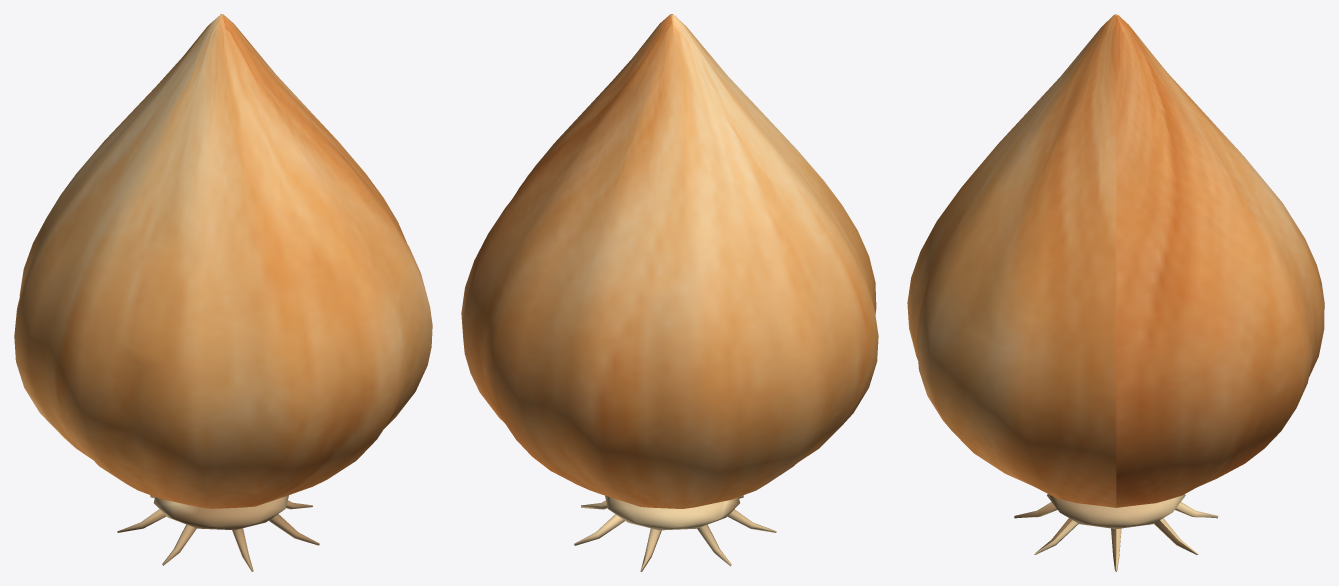
Rendered from NP_Tulip_Bulb_LOD1.fbx.
The picture shows the model from 3 angles, left to right: view 1: azimuth 30°, elevation 25°; view 2: azimuth 150°, elevation 25°; view 3: azimuth 270°, elevation 25°; orthographic projection.
Parts seen in each view (by area): view 1: NP_Tulip_Bulb; view 2: NP_Tulip_Bulb; view 3: NP_Tulip_Bulb.
Part boxes in pixels (left/top/right/bottom): NP_Tulip_Bulb: left=14, top=14, right=432, bottom=571; NP_Tulip_Bulb: left=461, top=14, right=878, bottom=571; NP_Tulip_Bulb: left=907, top=14, right=1324, bottom=571.
Bounding box in the file's own units: 20.4 × 27.66 × 20.38.
